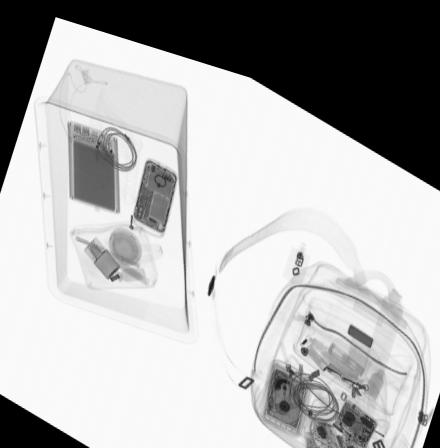Powerbank: (67, 114, 119, 206)
